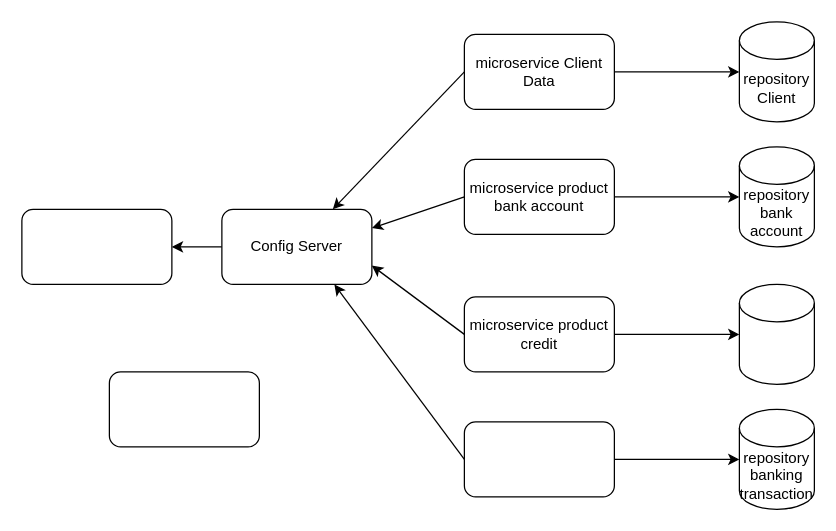
Some shapes in this 836 by 531 pixel diagram are drawn without their labels. Each missing label, with the box of its shape:
banking transaction: (463, 421, 614, 497)
Configuraciones en GIT: (21, 208, 172, 284)
Discovery Service (Eureka): (108, 371, 259, 447)
repository credit: (738, 283, 814, 384)
